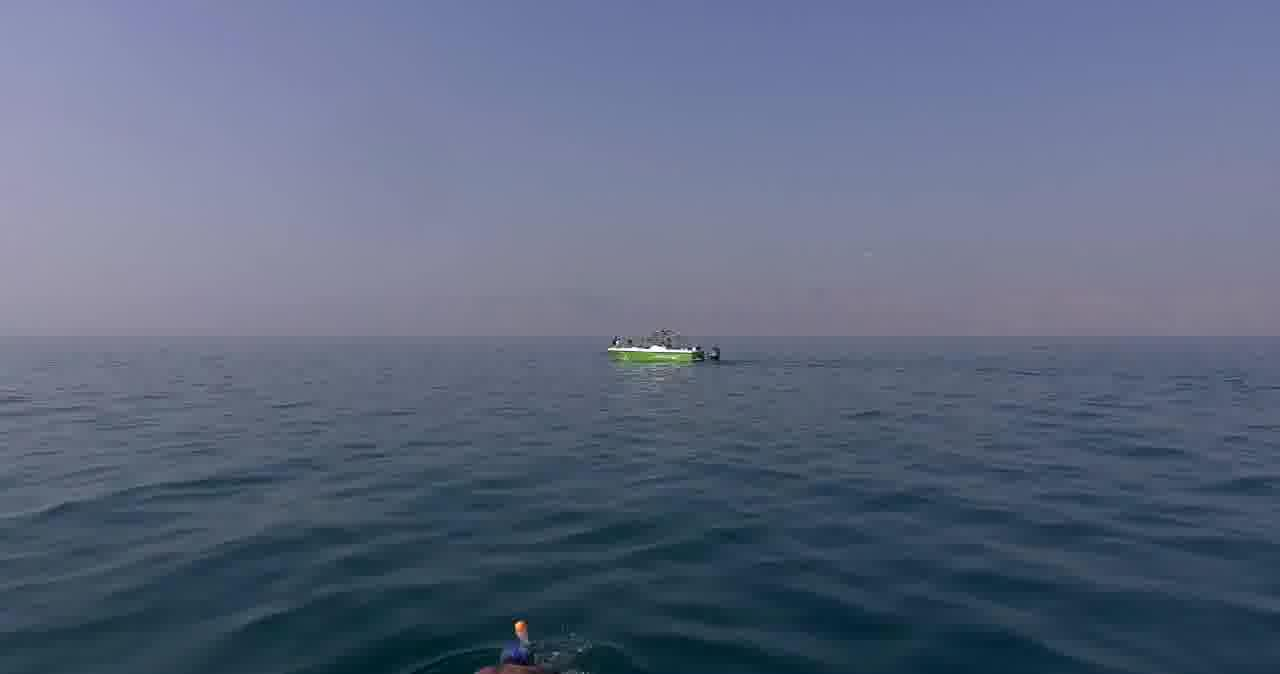swimmer: (461, 614, 588, 673)
